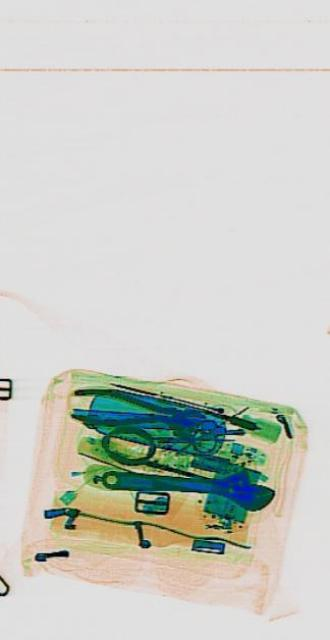Pliers: (68, 380, 202, 438)
Wrench: (99, 456, 273, 510)
